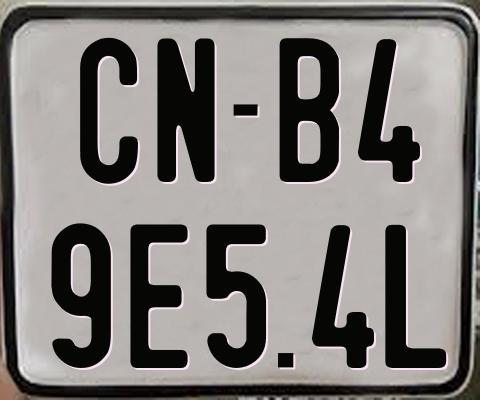4: (312, 225, 375, 372), (358, 37, 420, 180)
5: (204, 221, 269, 369)
9: (48, 220, 111, 370)
B: (277, 37, 337, 182)
C: (80, 36, 138, 185)
E: (127, 221, 186, 367)
L: (383, 223, 450, 370)
N: (156, 37, 214, 185)
